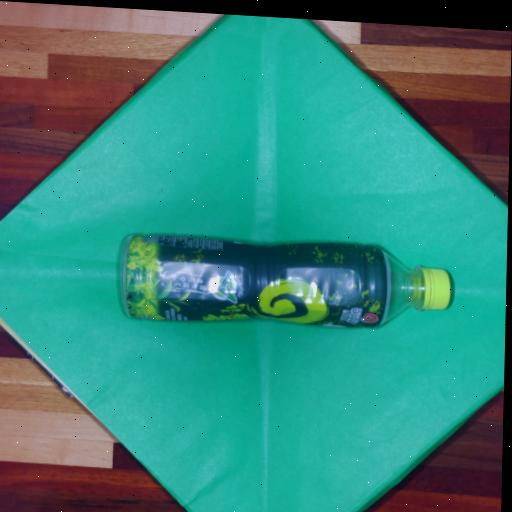bottle: (123, 235, 450, 326)
